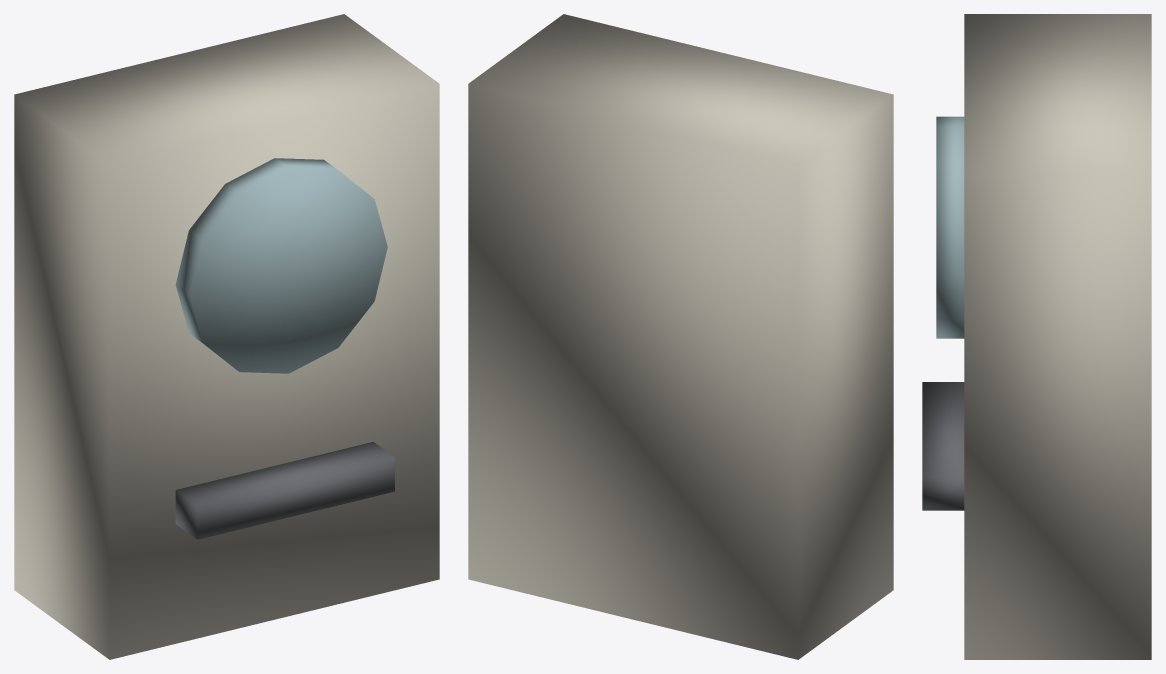
File: factory_time_clock__reinforced.glb
3 renders of one model, left to right at view 1: azimuth 30°, elevation 25°; view 2: azimuth 150°, elevation 25°; view 3: azimuth 270°, elevation 25°, orthographic.
Visible parts, largest first — view 1: world; view 2: world; view 3: world.
Part boxes in pixels (bbox=[...]): world: bbox=[14, 14, 439, 659]; world: bbox=[468, 14, 893, 659]; world: bbox=[922, 14, 1151, 659].
Bounding box in the file's own units: 0.412 × 0.5916 × 0.2524.
